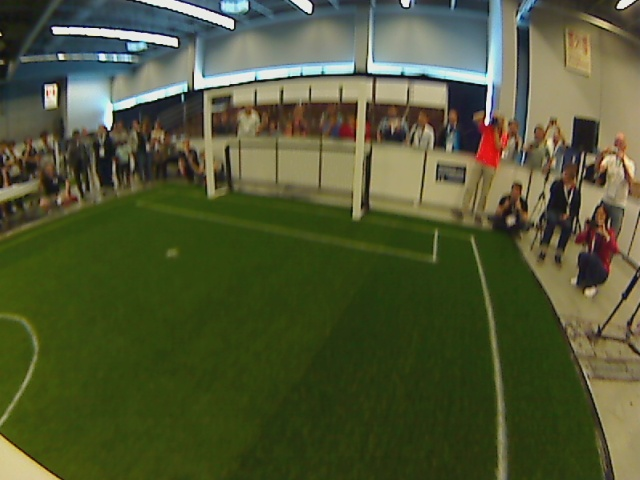ball: (165, 247, 179, 258)
